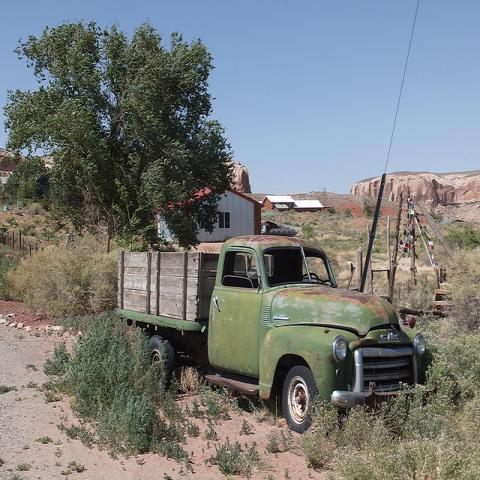truck: (111, 234, 436, 435)
